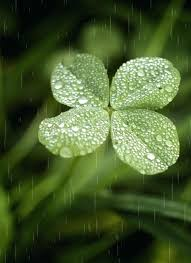4-clover: (41, 52, 187, 175)
